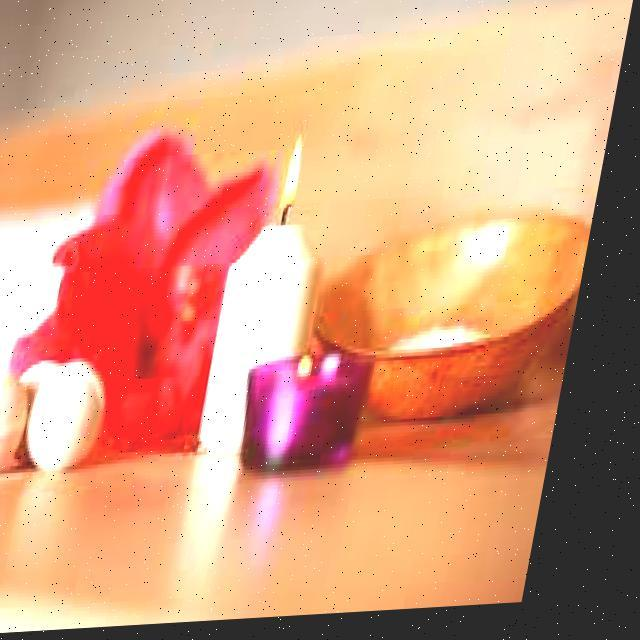Fire: (279, 127, 328, 223)
